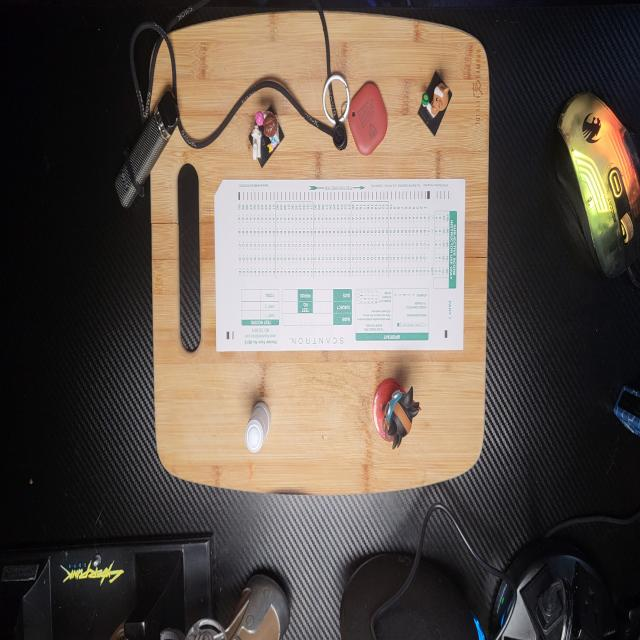scantron: (214, 179, 465, 352)
